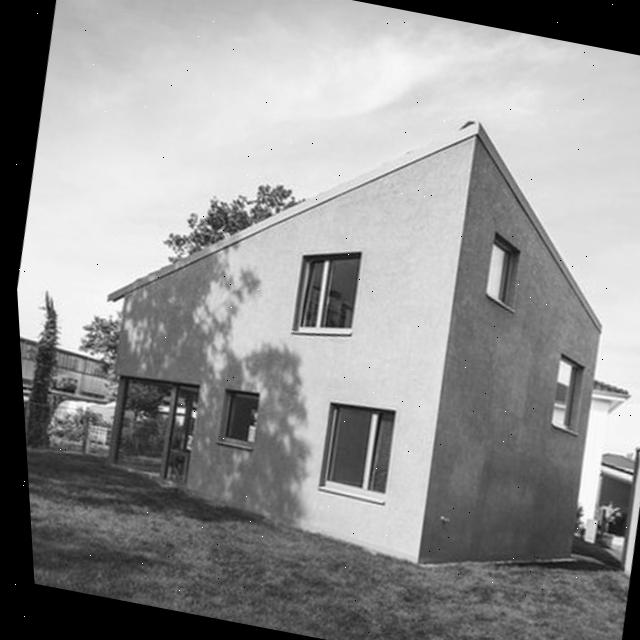building: (75, 61, 640, 594)
